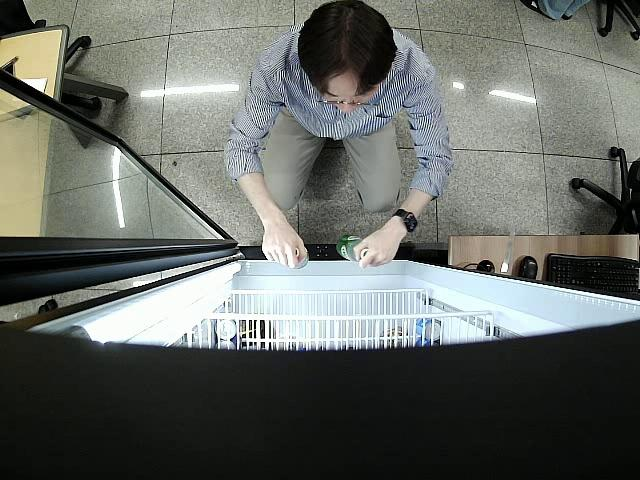00_hand: (261, 231, 308, 270), (354, 233, 399, 268)
18_trevi: (335, 236, 367, 263), (291, 245, 309, 271)
